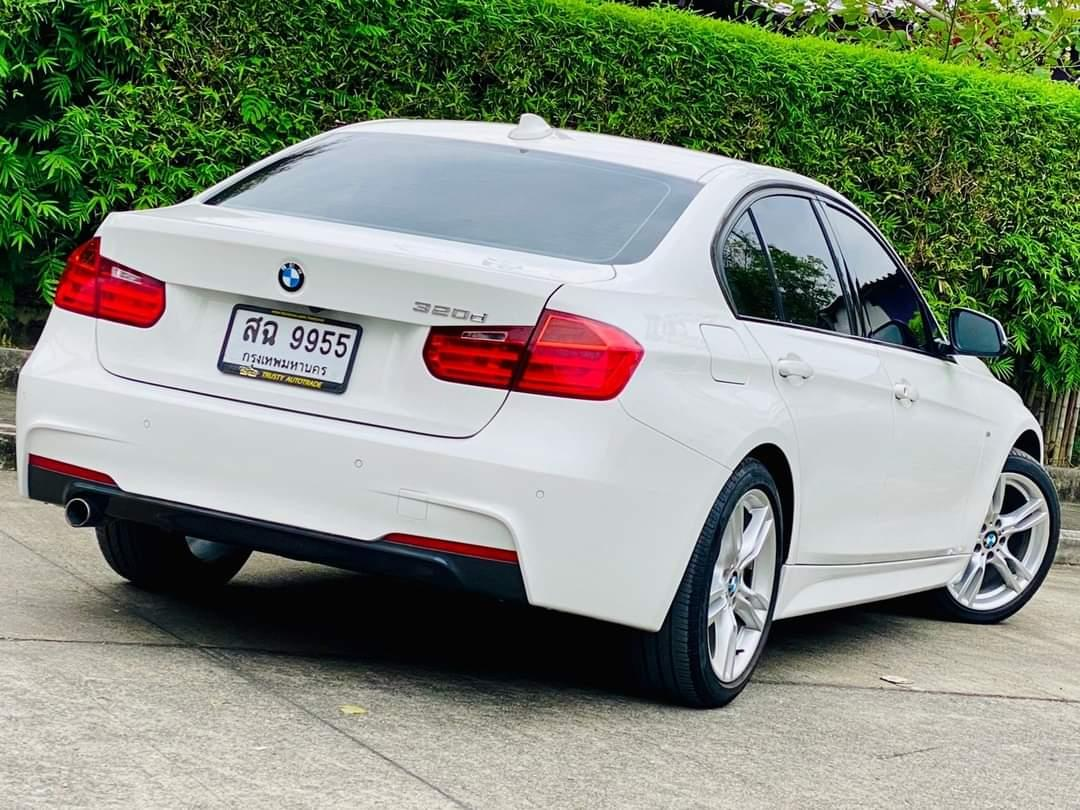license-plate: (213, 301, 365, 394)
